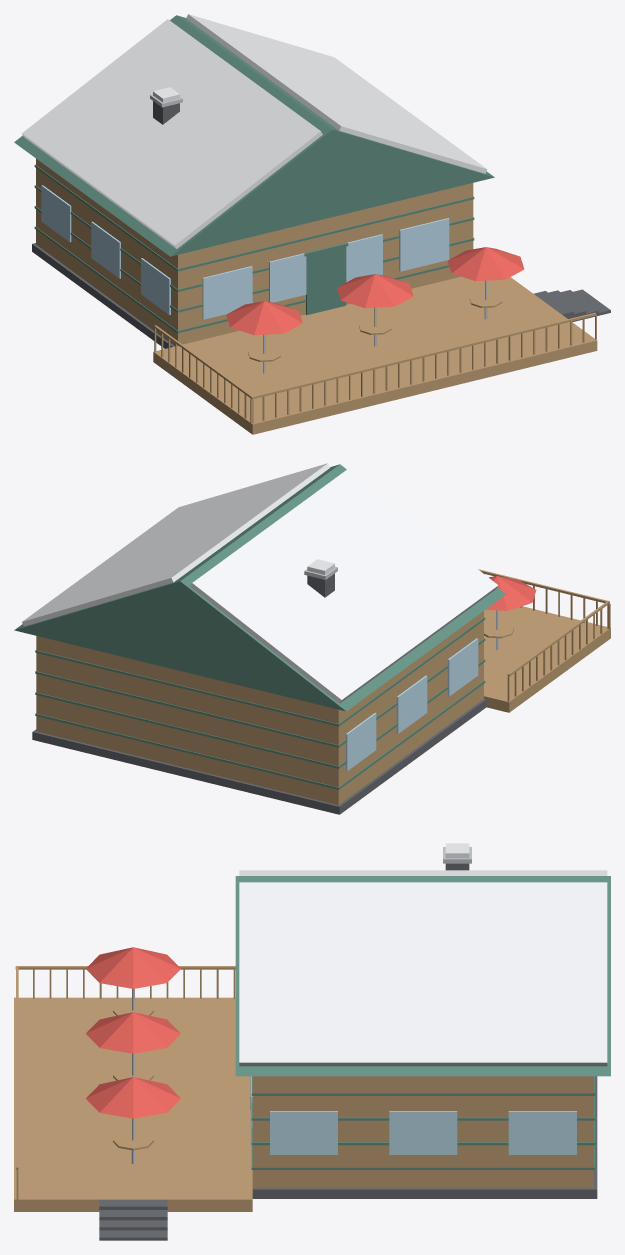
File: restaurant.glb
The picture shows the model from 3 angles, top to bottom: view 1: azimuth 30°, elevation 25°; view 2: azimuth 150°, elevation 25°; view 3: azimuth 270°, elevation 25°; orthographic projection. The views are drawn at different scales.
Visible parts, largest first — view 1: mountain-restaurant; view 2: mountain-restaurant; view 3: mountain-restaurant.
Boxes of the visible parts, box(x1,y1,x2,y2) form: mountain-restaurant: box(14, 14, 610, 434); mountain-restaurant: box(14, 463, 610, 814); mountain-restaurant: box(14, 843, 610, 1240).
Size of the model in its own units: 16.03 by 7.6 by 17.5.
